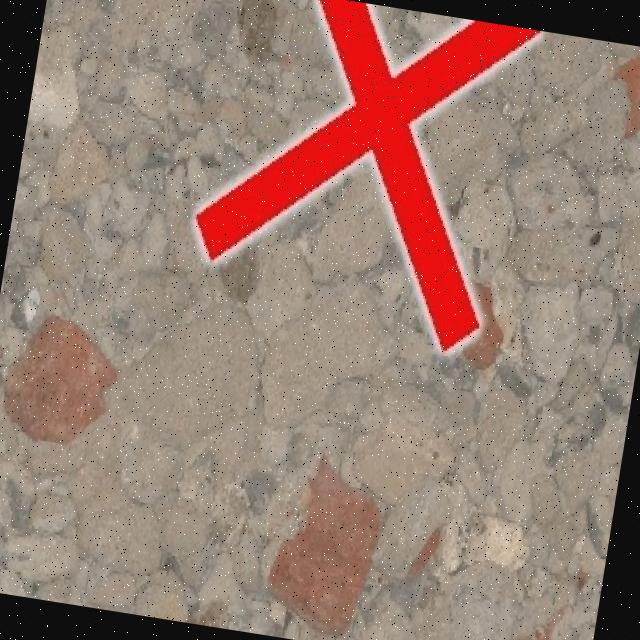x_marker: (181, 0, 539, 357)
